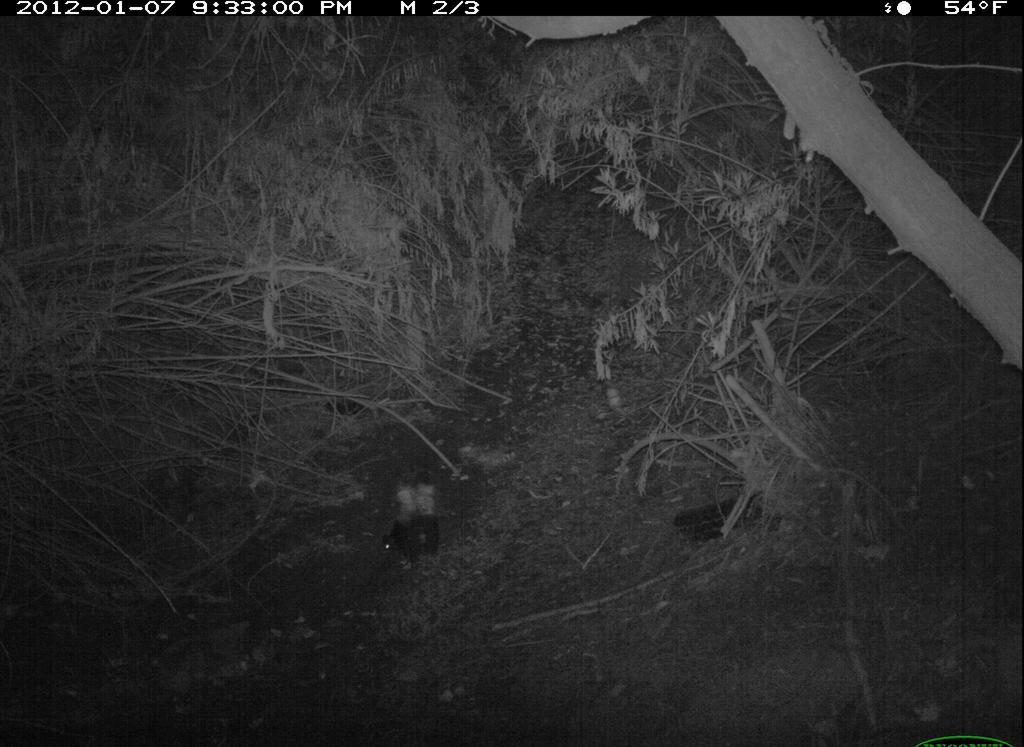skunk: (381, 478, 446, 578)
